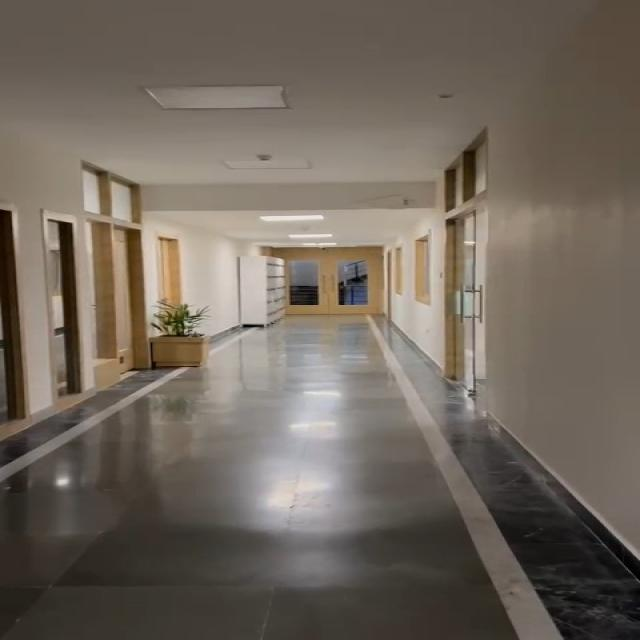door: (70, 150, 148, 369), (432, 157, 490, 412), (30, 195, 84, 389), (275, 245, 383, 322)
floor: (45, 389, 496, 640), (219, 320, 422, 395)
furniture: (139, 299, 206, 374)
wall: (486, 104, 640, 454), (379, 210, 445, 345), (182, 223, 244, 329)
